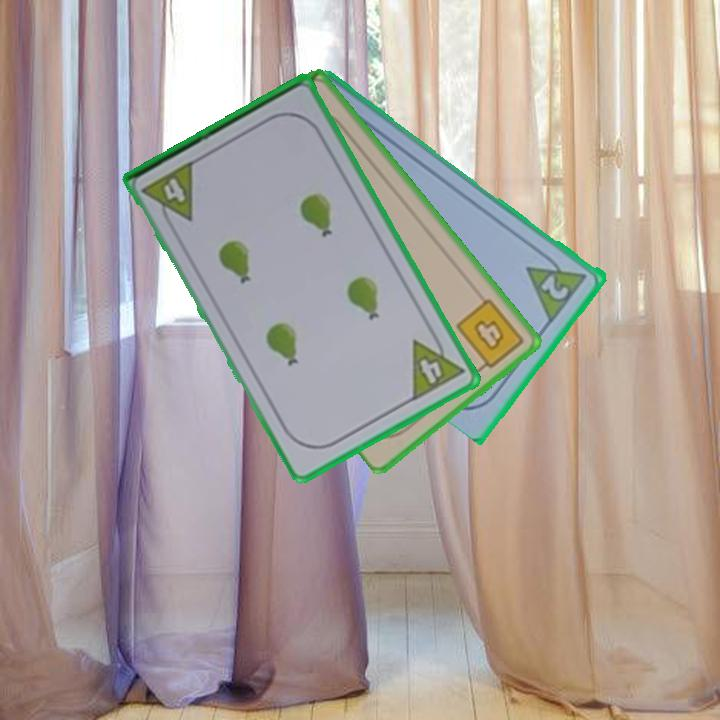2p: (522, 246, 591, 324)
4b: (452, 294, 528, 376)
4p: (408, 326, 467, 404), (138, 157, 198, 232)
